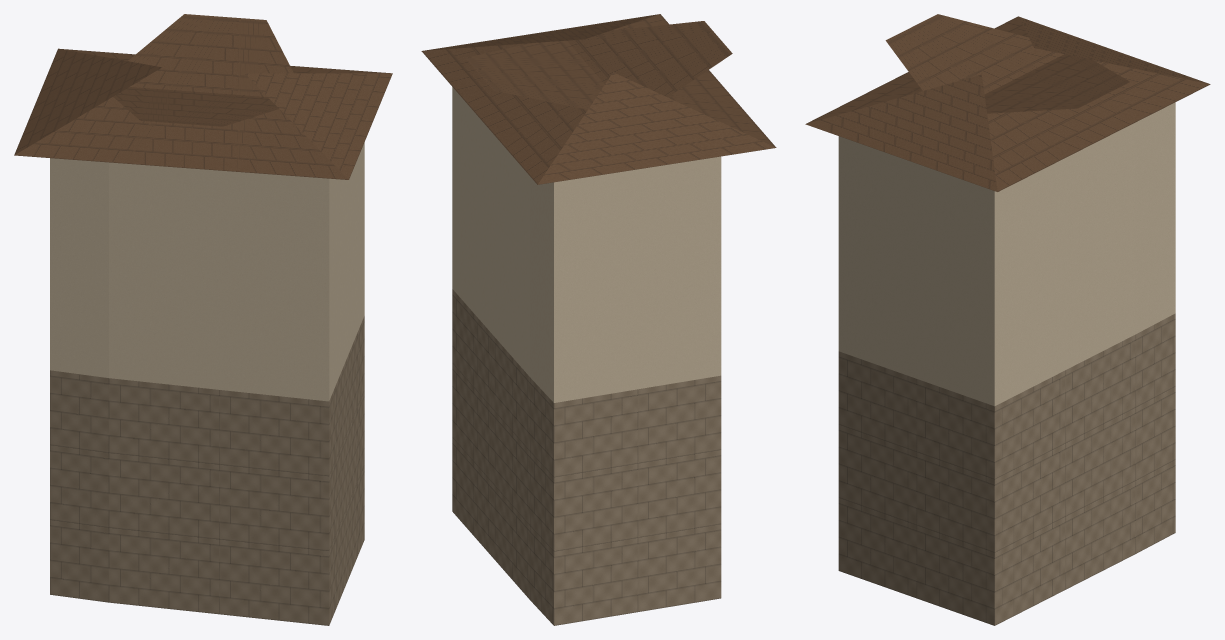
Rendered from bld_c9_18_432.gltf.
3 renders of one model, left to right at view 1: azimuth 30°, elevation 25°; view 2: azimuth 150°, elevation 25°; view 3: azimuth 270°, elevation 25°, orthographic. The views are drawn at different scales.
Visible parts, largest first — view 1: bld_c9_18_432; view 2: bld_c9_18_432; view 3: bld_c9_18_432.
Part boxes in pixels (box(x1,y1,x2,y2)): bld_c9_18_432: box(14, 14, 392, 625); bld_c9_18_432: box(421, 14, 776, 625); bld_c9_18_432: box(805, 14, 1210, 625).
Bounding box in the file's own units: 8.76 × 11.4 × 8.54.
Materials: 3 (3 with a texture image).
